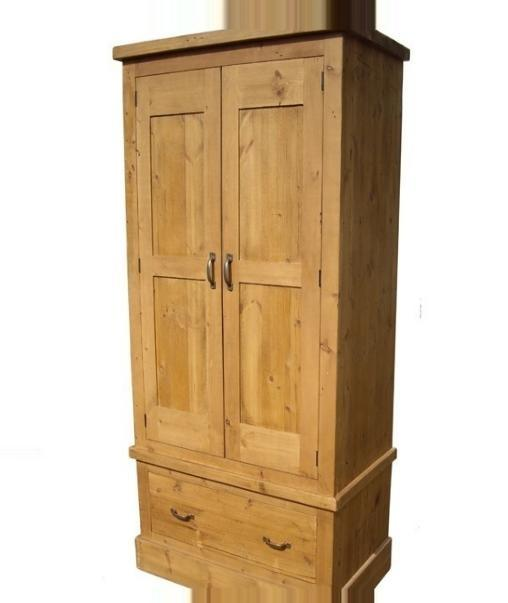cabinet_door: (221, 63, 321, 458), (133, 72, 219, 446), (145, 491, 317, 563)
handle: (263, 533, 295, 556), (167, 505, 198, 526), (204, 251, 216, 291), (223, 252, 234, 292)
